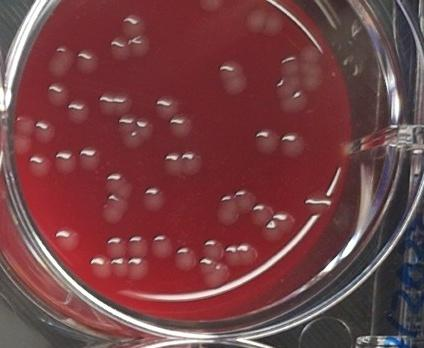vangil: (273, 52, 309, 112), (102, 171, 133, 226), (218, 58, 251, 102), (117, 113, 154, 149), (247, 7, 284, 39), (301, 42, 322, 96), (264, 208, 296, 243), (96, 90, 136, 117), (198, 257, 231, 289), (253, 129, 281, 163), (224, 243, 259, 268), (167, 112, 197, 141), (302, 189, 334, 216), (215, 194, 241, 225), (279, 128, 306, 155), (152, 95, 178, 122), (173, 246, 199, 273), (119, 14, 147, 39), (233, 186, 256, 215), (251, 200, 274, 229), (141, 187, 167, 211), (128, 37, 155, 60), (148, 233, 173, 257), (126, 258, 150, 282), (201, 238, 224, 261), (89, 255, 111, 279), (181, 151, 201, 177), (109, 37, 130, 61), (105, 235, 126, 259), (127, 234, 147, 259), (110, 256, 130, 280), (163, 151, 180, 176)
